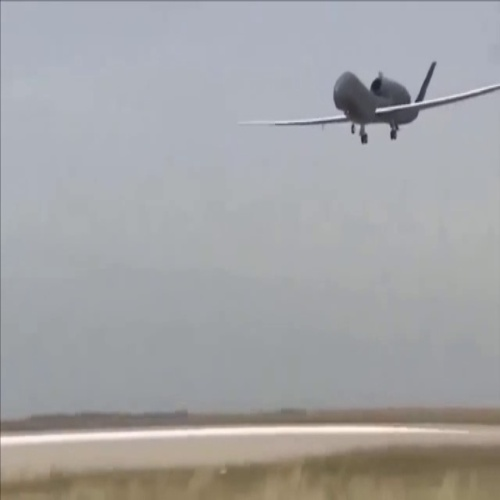uav: (232, 61, 500, 151)
